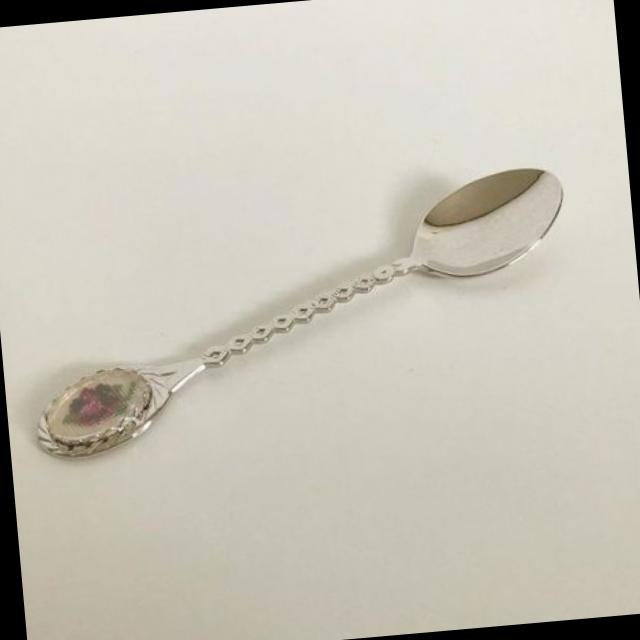spoon: (0, 160, 588, 482)
